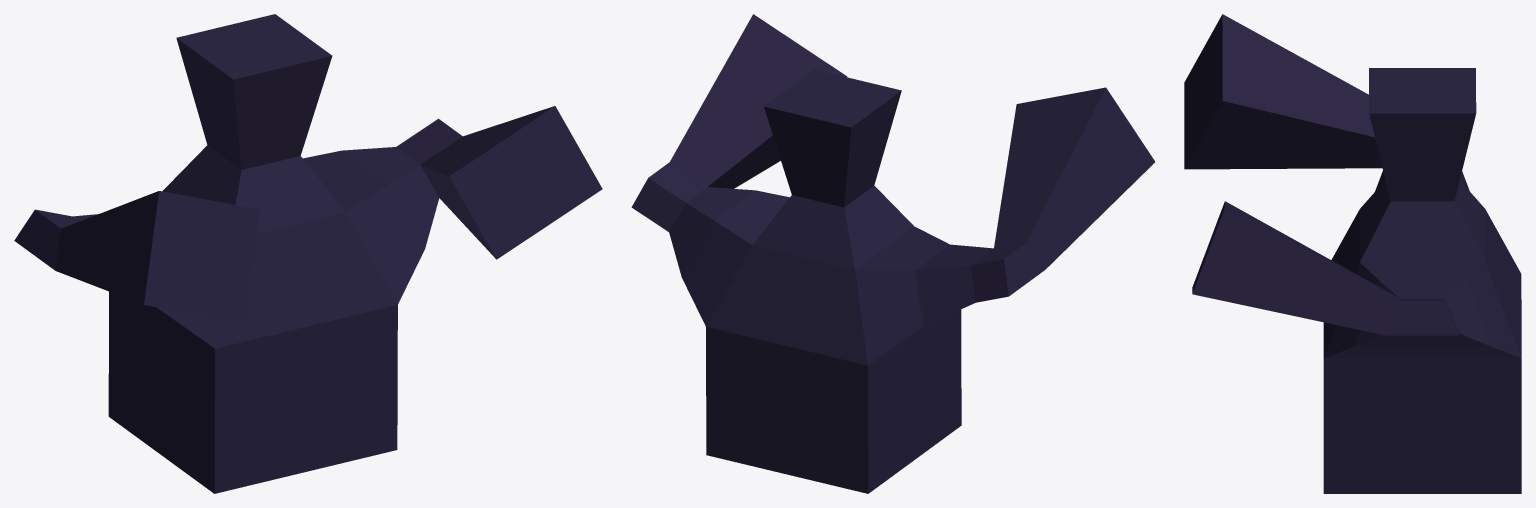
Rendered from MainCharacter.glb.
The picture shows the model from 3 angles, left to right: view 1: azimuth 30°, elevation 25°; view 2: azimuth 150°, elevation 25°; view 3: azimuth 270°, elevation 25°; orthographic projection. The views are drawn at different scales.
Visible parts, largest first — view 1: MainCharacter; view 2: MainCharacter; view 3: MainCharacter.
Boxes of the visible parts, bbox=[...] form: MainCharacter: bbox=[14, 14, 602, 493]; MainCharacter: bbox=[631, 14, 1154, 493]; MainCharacter: bbox=[1184, 14, 1521, 493].
Size of the model in its own units: 3.28 by 2.61 by 2.21.
